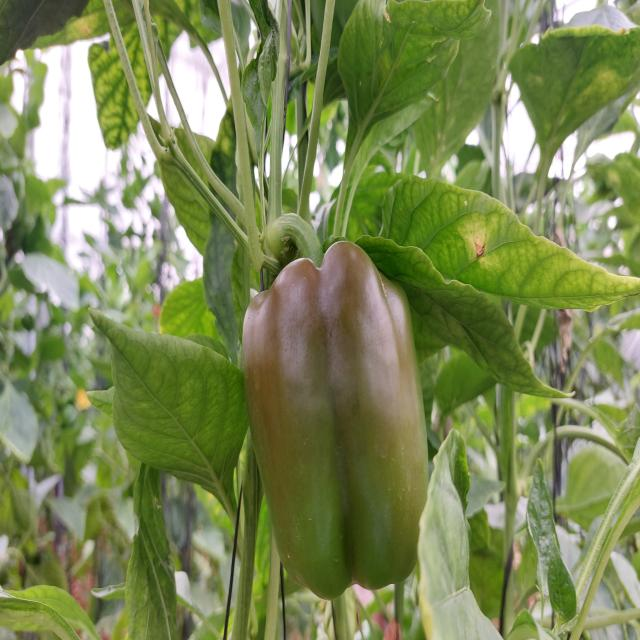BrownishRed--Can-be-Harvested: (248, 239, 426, 598)
